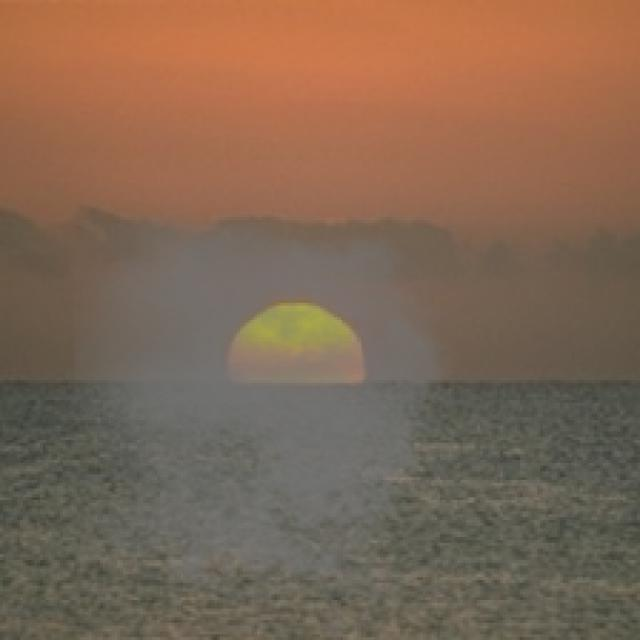smoke: (74, 214, 469, 600)
